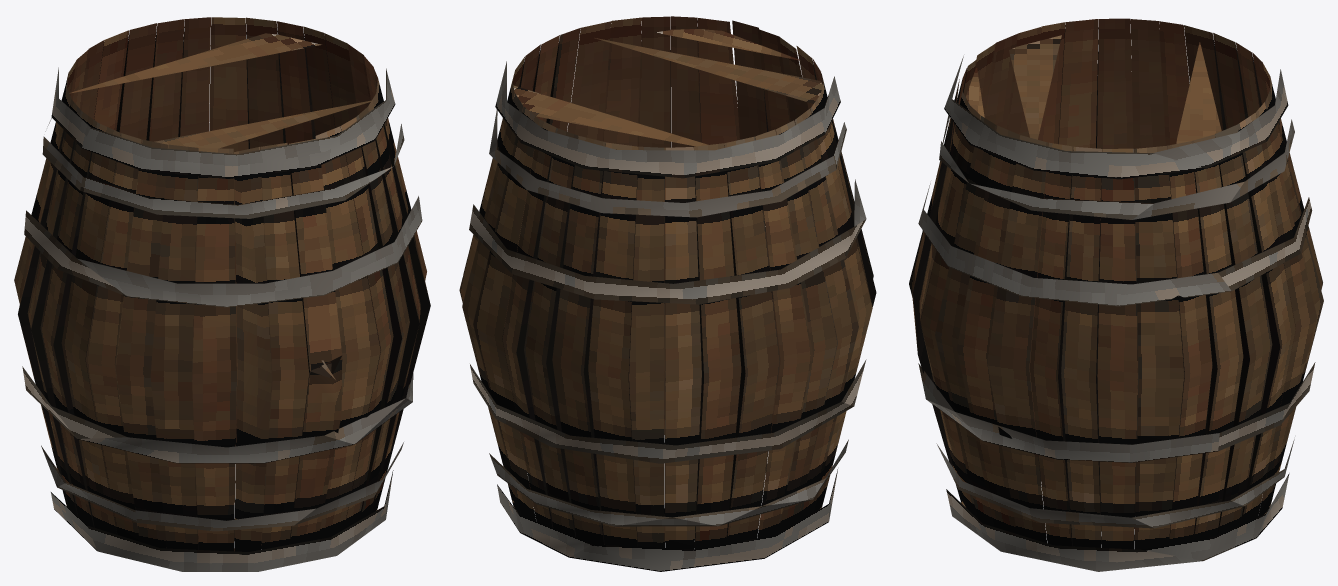
File: wine_barrel_01.glb
3 views of the same model, side by side, from view 1: azimuth 30°, elevation 25°; view 2: azimuth 150°, elevation 25°; view 3: azimuth 270°, elevation 25° (orthographic).
Parts seen in each view (by area): view 1: wine_barrel_01; view 2: wine_barrel_01; view 3: wine_barrel_01.
Part boxes in pixels (x1,y1,x2,y2): wine_barrel_01: (14,17,430,571); wine_barrel_01: (459,16,876,571); wine_barrel_01: (909,18,1323,571).
Bounding box in the file's own units: 0.7609 × 0.8437 × 0.7679.
Materials: 1 (1 with a texture image).
